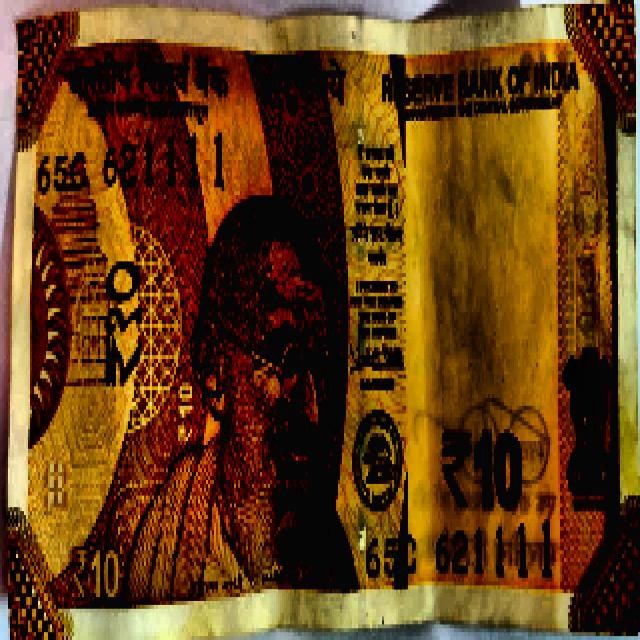-10-: (20, 20, 640, 623)
